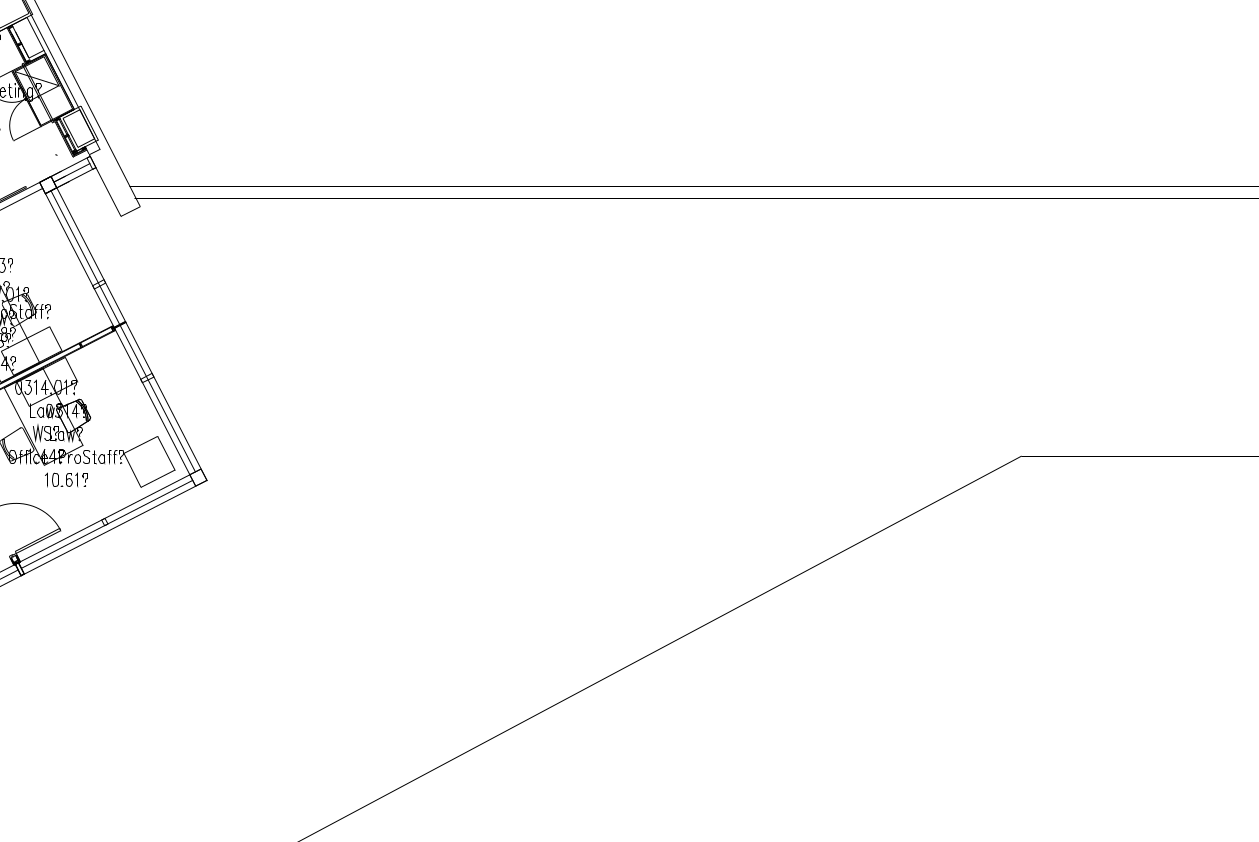door: (1, 486, 63, 564)
